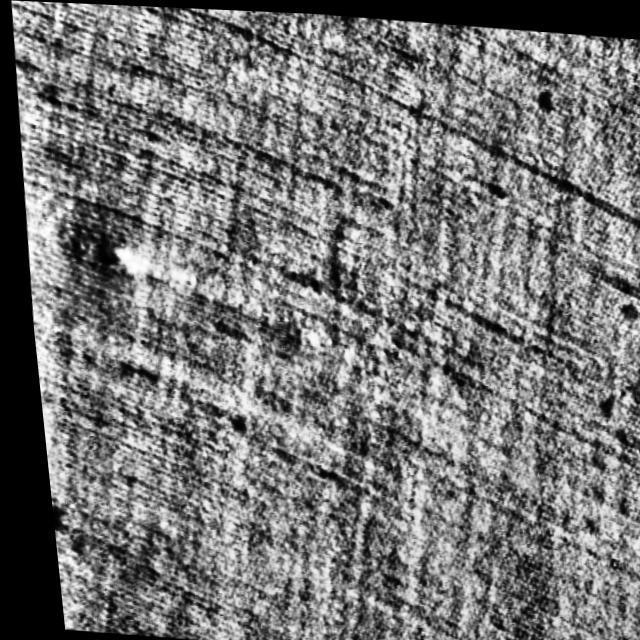Stitch: (66, 210, 394, 398)
